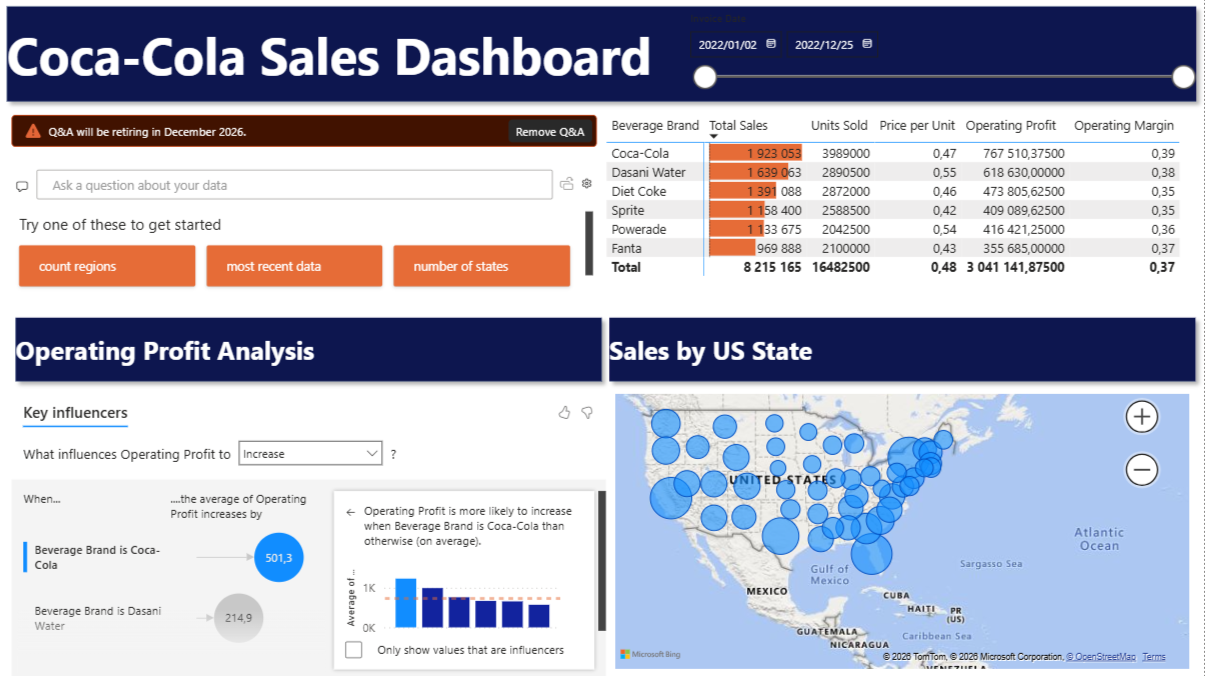

What the dashboard file says about the page in this screenshot:
{"tool":"powerbi","page":{"name":"Page 1","canvas":[1280,720],"ordinal":0},"visuals":[{"type":"shape","box":[10,0,1270,118],"z":0},{"type":"shape","box":[20,327.5,635,85],"z":1000},{"type":"qnaVisual","box":[20,118.6,625.7,210],"z":2000},{"type":"keyDriversVisual","fields":{"Target":["Data.Operating Profit"],"ExplainBy":["Data.Beverage Brand"]},"box":[20,411.4,635.7,308.6],"z":3000},{"type":"shape","box":[645,327.5,635,85],"z":4000},{"type":"map","fields":{"Category":["Data.State"],"Size":["Sum(Data.Total Sales)"]},"box":[655.7,411.4,614.3,298.6],"z":5000},{"type":"pivotTable","fields":{"Rows":["Data.Beverage Brand"],"Values":["Sum(Data.Total Sales)","Sum(Data.Units Sold)","Avg(Data.Price per Unit)","Sum(Data.Operating Profit)","Avg(Data.Operating Margin)"]},"box":[646,119,634,209],"z":6000},{"type":"slicer","fields":{"Values":["Data.Invoice Date"]},"box":[726.7,10,553.3,110],"z":7000}]}

Visuals, with their boxes in screenshot pixels (x1, y1, x2, y2), scaled from the page's 1280x720 canvas onto the 1205x676 screenshot:
shape: (x1=9, y1=0, x2=1204, y2=111)
shape: (x1=19, y1=307, x2=617, y2=387)
qnaVisual: (x1=19, y1=111, x2=608, y2=309)
keyDriversVisual - Data.Operating Profit x Data.Beverage Brand: (x1=19, y1=386, x2=617, y2=675)
shape: (x1=607, y1=307, x2=1204, y2=387)
map - Data.State x Sum(Data.Total Sales): (x1=617, y1=386, x2=1196, y2=667)
pivotTable - Data.Beverage Brand x Sum(Data.Total Sales): (x1=608, y1=112, x2=1204, y2=308)
slicer - Data.Invoice Date: (x1=684, y1=9, x2=1204, y2=113)
